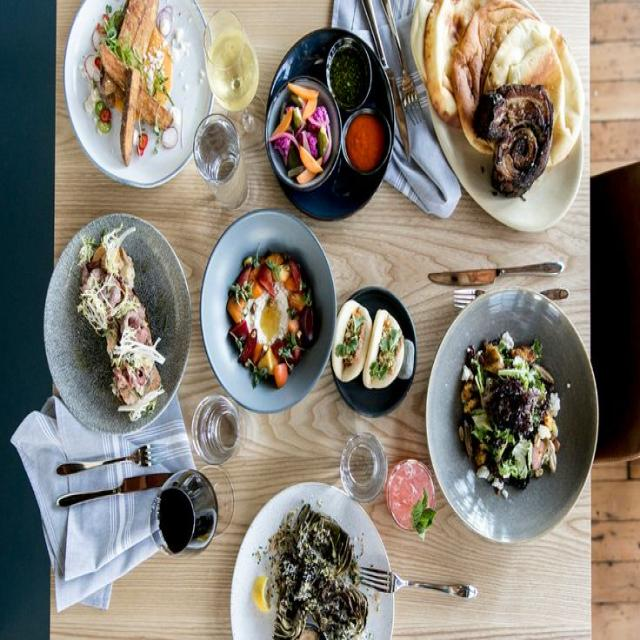nuoc ep trai cay: (389, 449, 439, 537)
ruou: (200, 24, 260, 108)
